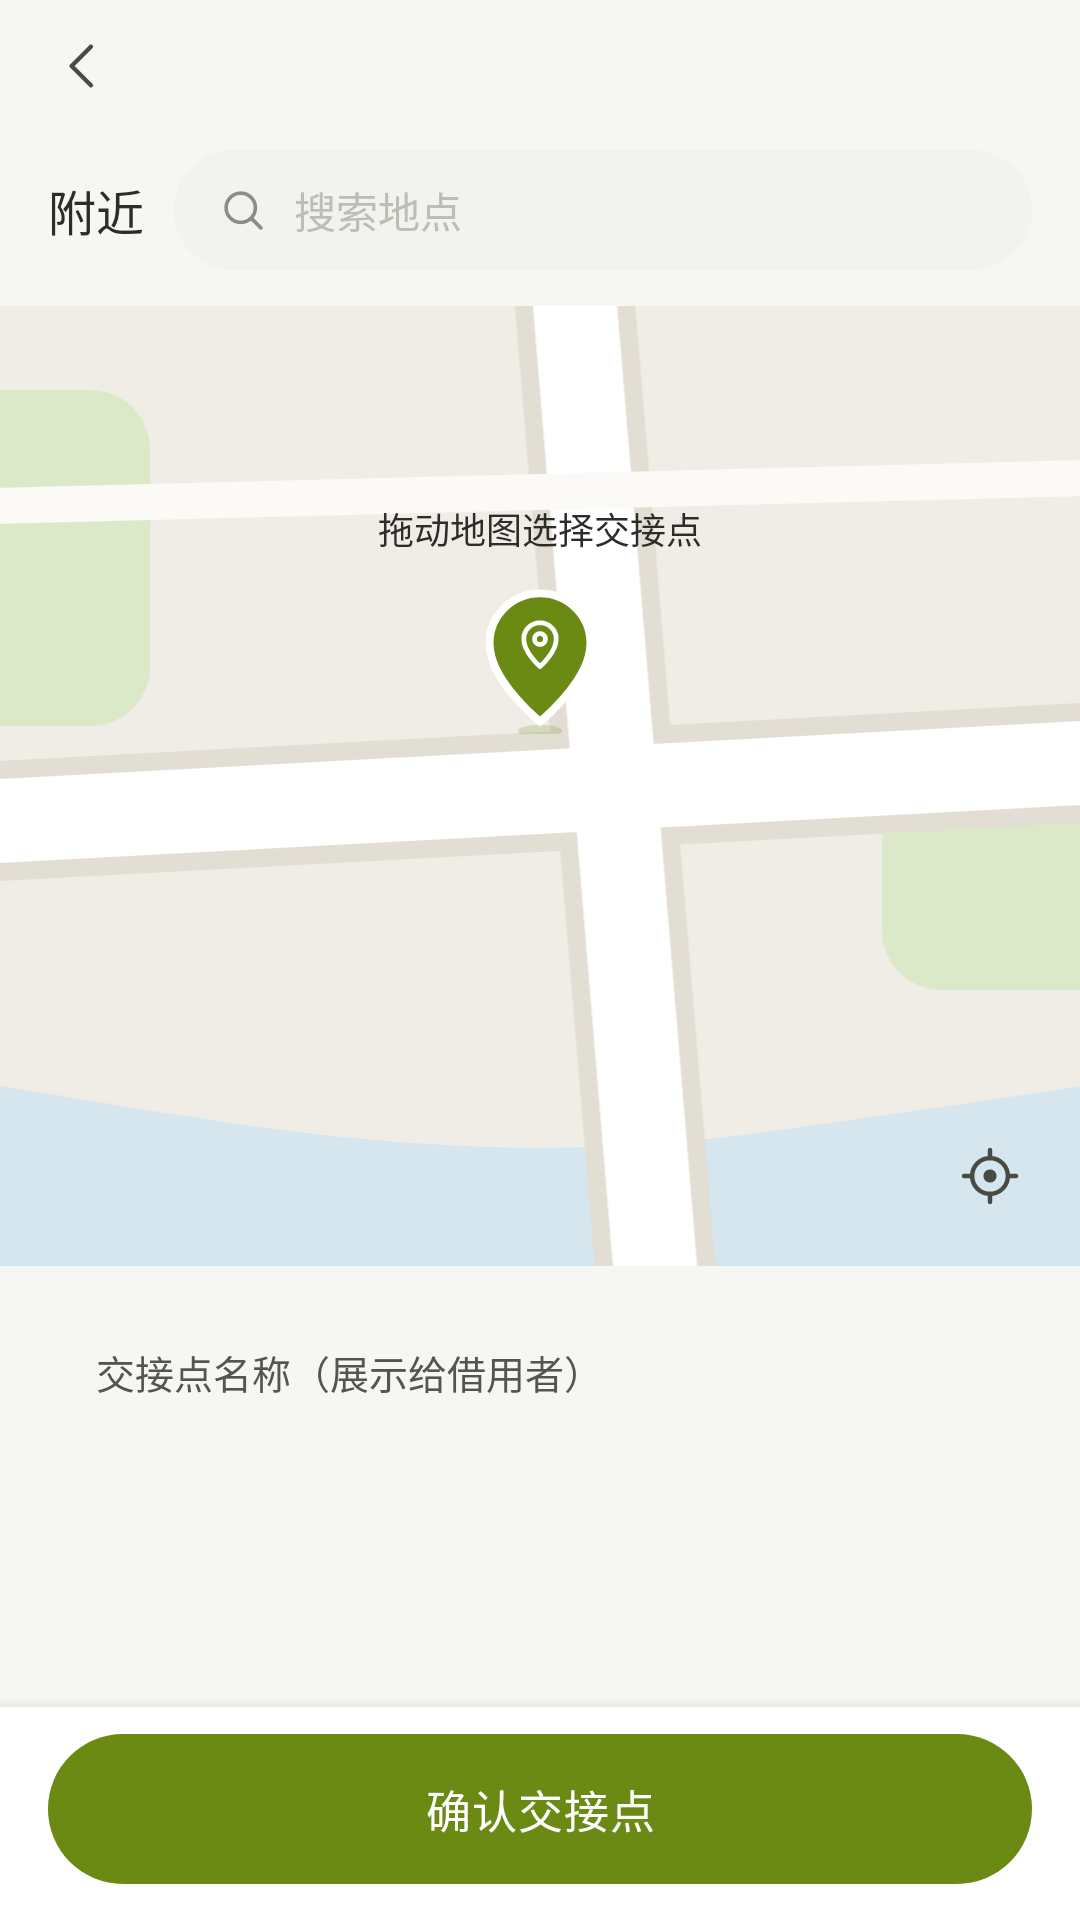

Locate icon controls on the screen. Image size 1080×1920, boxes as detection(x1, y1, x2, y2).
pin: detection(521, 620, 559, 669)
search: detection(224, 191, 263, 230)
回到我的位置: detection(962, 1148, 1018, 1204)
返回: detection(69, 44, 93, 88)
